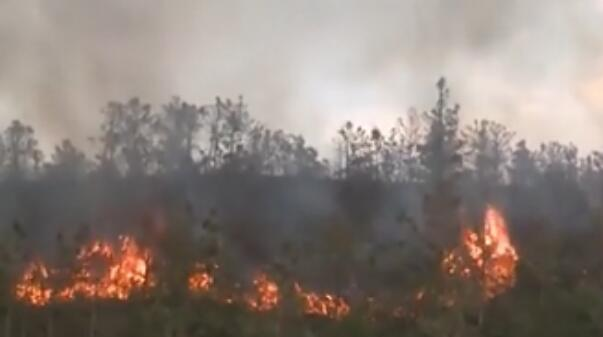fire: (11, 232, 350, 320), (438, 202, 521, 305)
yanwu: (0, 0, 598, 209)
